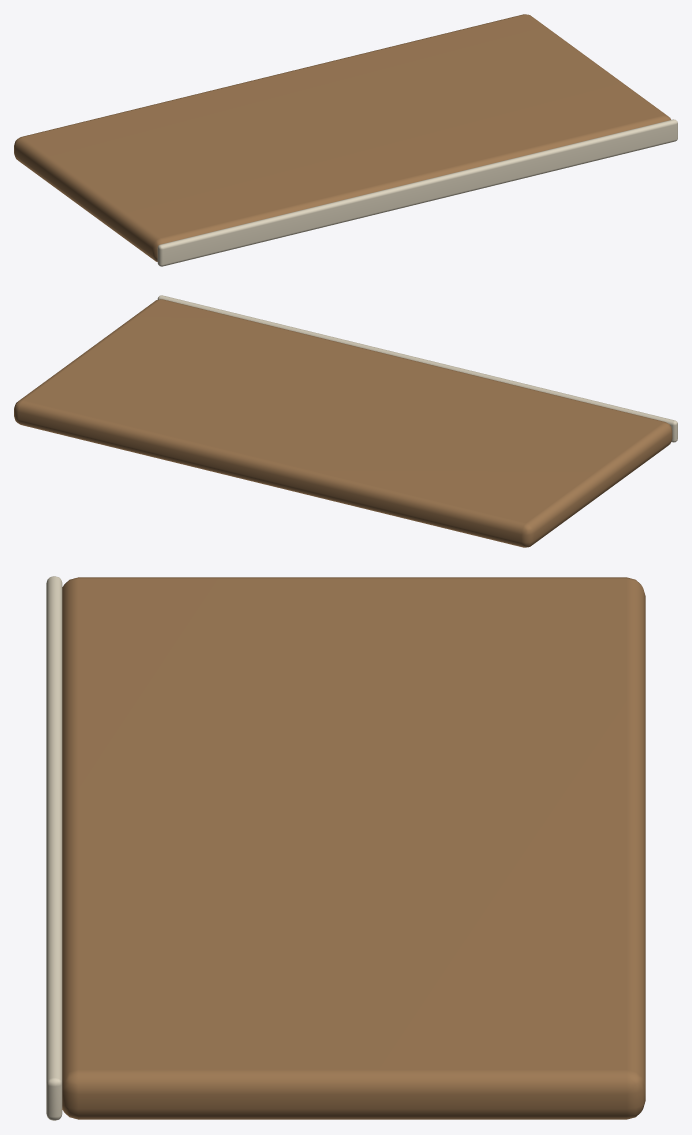
File: shelf-board-090.glb
3 renders of one model, top to bottom at view 1: azimuth 30°, elevation 25°; view 2: azimuth 150°, elevation 25°; view 3: azimuth 270°, elevation 25°, orthographic. The views are drawn at different scales.
Parts seen in each view (by area): view 1: shelf-board-090 / 21 / honey ash timber, shelf-board-090 / 01 • warm porcelain paint; view 2: shelf-board-090 / 21 / honey ash timber, shelf-board-090 / 01 • warm porcelain paint; view 3: shelf-board-090 / 21 / honey ash timber, shelf-board-090 / 01 • warm porcelain paint.
Boxes of the visible parts, left/top/right/bottom form: shelf-board-090 / 21 / honey ash timber: left=14, top=14, right=670, bottom=261; shelf-board-090 / 01 • warm porcelain paint: left=157, top=119, right=677, bottom=266; shelf-board-090 / 21 / honey ash timber: left=14, top=299, right=672, bottom=547; shelf-board-090 / 01 • warm porcelain paint: left=157, top=295, right=677, bottom=442; shelf-board-090 / 21 / honey ash timber: left=62, top=577, right=645, bottom=1119; shelf-board-090 / 01 • warm porcelain paint: left=46, top=576, right=62, bottom=1120.
Size of the model in its own units: 0.9 by 0.04 by 0.45.
